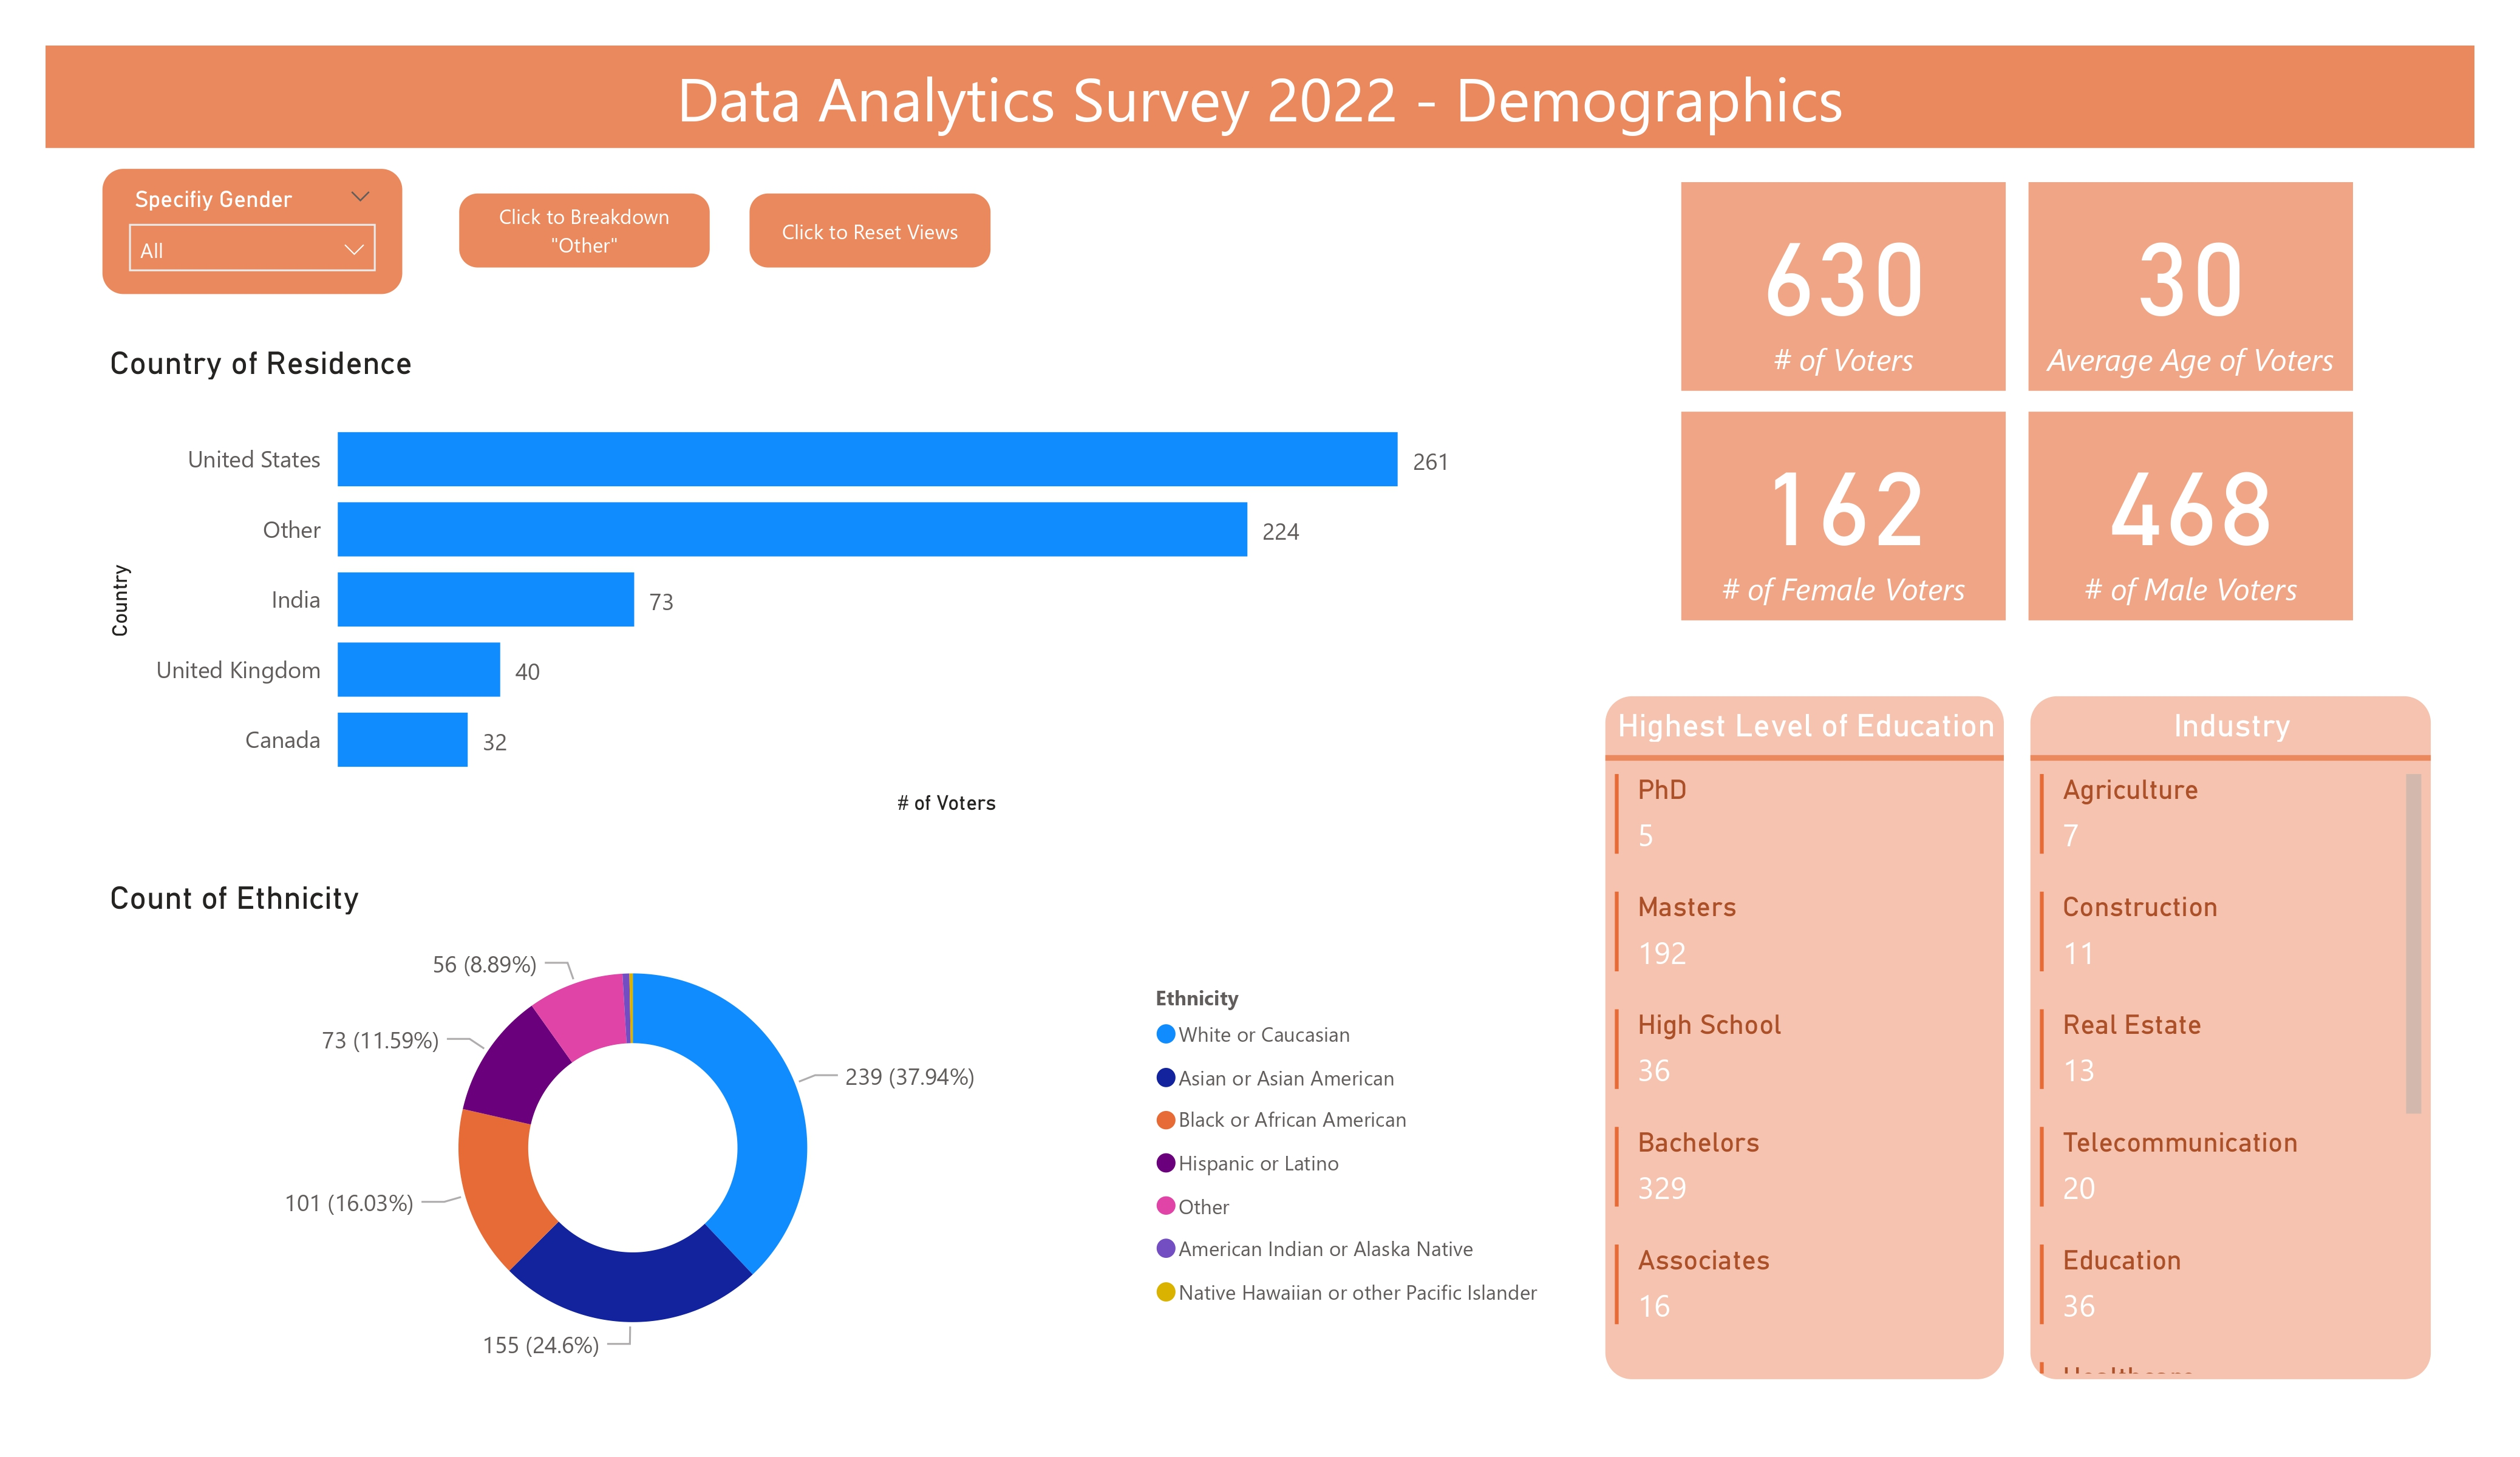

The page's visual inventory and layout, read from the dashboard file:
{"tool":"powerbi","page":{"name":"Demographics","canvas":[1280,720],"ordinal":0},"visuals":[{"type":"textbox","box":[0,0,1280,54.3],"z":0},{"type":"card","fields":{"Values":["Count(Data Professional Survey.Unique ID)"]},"box":[862.3,72.4,170.8,109.7],"z":1000},{"type":"card","fields":{"Values":["Avg(Data Professional Survey.Q10 - Current Age)"]},"box":[1045,72.4,170.8,109.7],"z":2000},{"type":"donutChart","title":"Count of Ethnicity","fields":{"Category":["Data Professional Survey.Q13 - Ethnicity"],"Y":["CountNonNull(Data Professional Survey.Unique ID)"]},"box":[28.8,438.8,772,265.3],"z":3000},{"type":"barChart","title":"Country of Residence","fields":{"Category":["Data Professional Survey.Q11 - Which Country do you live in?"],"Y":["Count(Data Professional Survey.Unique ID)"]},"box":[29,157.2,771.9,252.4],"z":4000},{"type":"multiRowCard","title":"Highest Level of Education","fields":{"Values":["Data Professional Survey.Q12 - Highest Level of Education","Data Professional Survey.Unique ID"]},"box":[820.5,341.6,212.6,362.5],"z":5000},{"type":"card","fields":{"Values":["CountNonNull(Data Professional Survey.Unique ID)"]},"box":[862.3,193.2,170.8,109.7],"z":6000},{"type":"card","fields":{"Values":["CountNonNull(Data Professional Survey.Unique ID)"]},"box":[1045,193.2,170.8,109.7],"z":7000},{"type":"shape","box":[218,78.2,131.6,39.1],"z":8000},{"type":"shape","box":[370.9,78.2,127.5,39.1],"z":11000},{"type":"slicer","fields":{"Values":["Data Professional Survey.Q9 - Male/Female?"]},"box":[28.8,63.8,159.7,67.9],"z":12000},{"type":"multiRowCard","title":"Industry","fields":{"Values":["Data Professional Survey.Q4 - What Industry do you work in?","Data Professional Survey.Unique ID"]},"box":[1045,341.6,212.6,362.5],"z":13000}]}

Visuals, with their boxes in screenshot pixels (x1, y1, x2, y2):
textbox: left=46, top=46, right=2474, bottom=149
card - Count(Data Professional Survey.Unique ID): left=1682, top=183, right=2006, bottom=391
card - Avg(Data Professional Survey.Q10 - Current Age): left=2029, top=183, right=2352, bottom=391
"Count of Ethnicity" donutChart: left=100, top=878, right=1565, bottom=1381
"Country of Residence" barChart: left=101, top=344, right=1565, bottom=823
"Highest Level of Education" multiRowCard: left=1602, top=693, right=2006, bottom=1381
card - CountNonNull(Data Professional Survey.Unique ID): left=1682, top=412, right=2006, bottom=620
card - CountNonNull(Data Professional Survey.Unique ID): left=2029, top=412, right=2352, bottom=620
shape: left=459, top=194, right=709, bottom=268
shape: left=749, top=194, right=991, bottom=268
slicer - Data Professional Survey.Q9 - Male/Female?: left=100, top=166, right=403, bottom=296
"Industry" multiRowCard: left=2029, top=693, right=2432, bottom=1381
